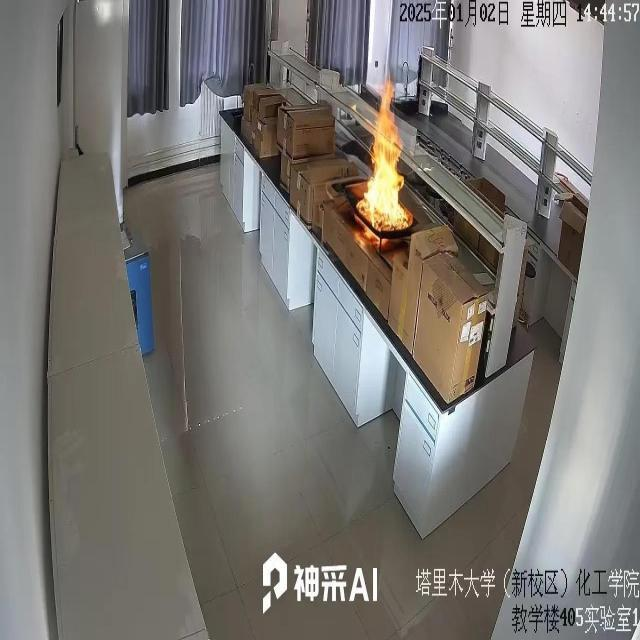smoke: (358, 70, 412, 233)
